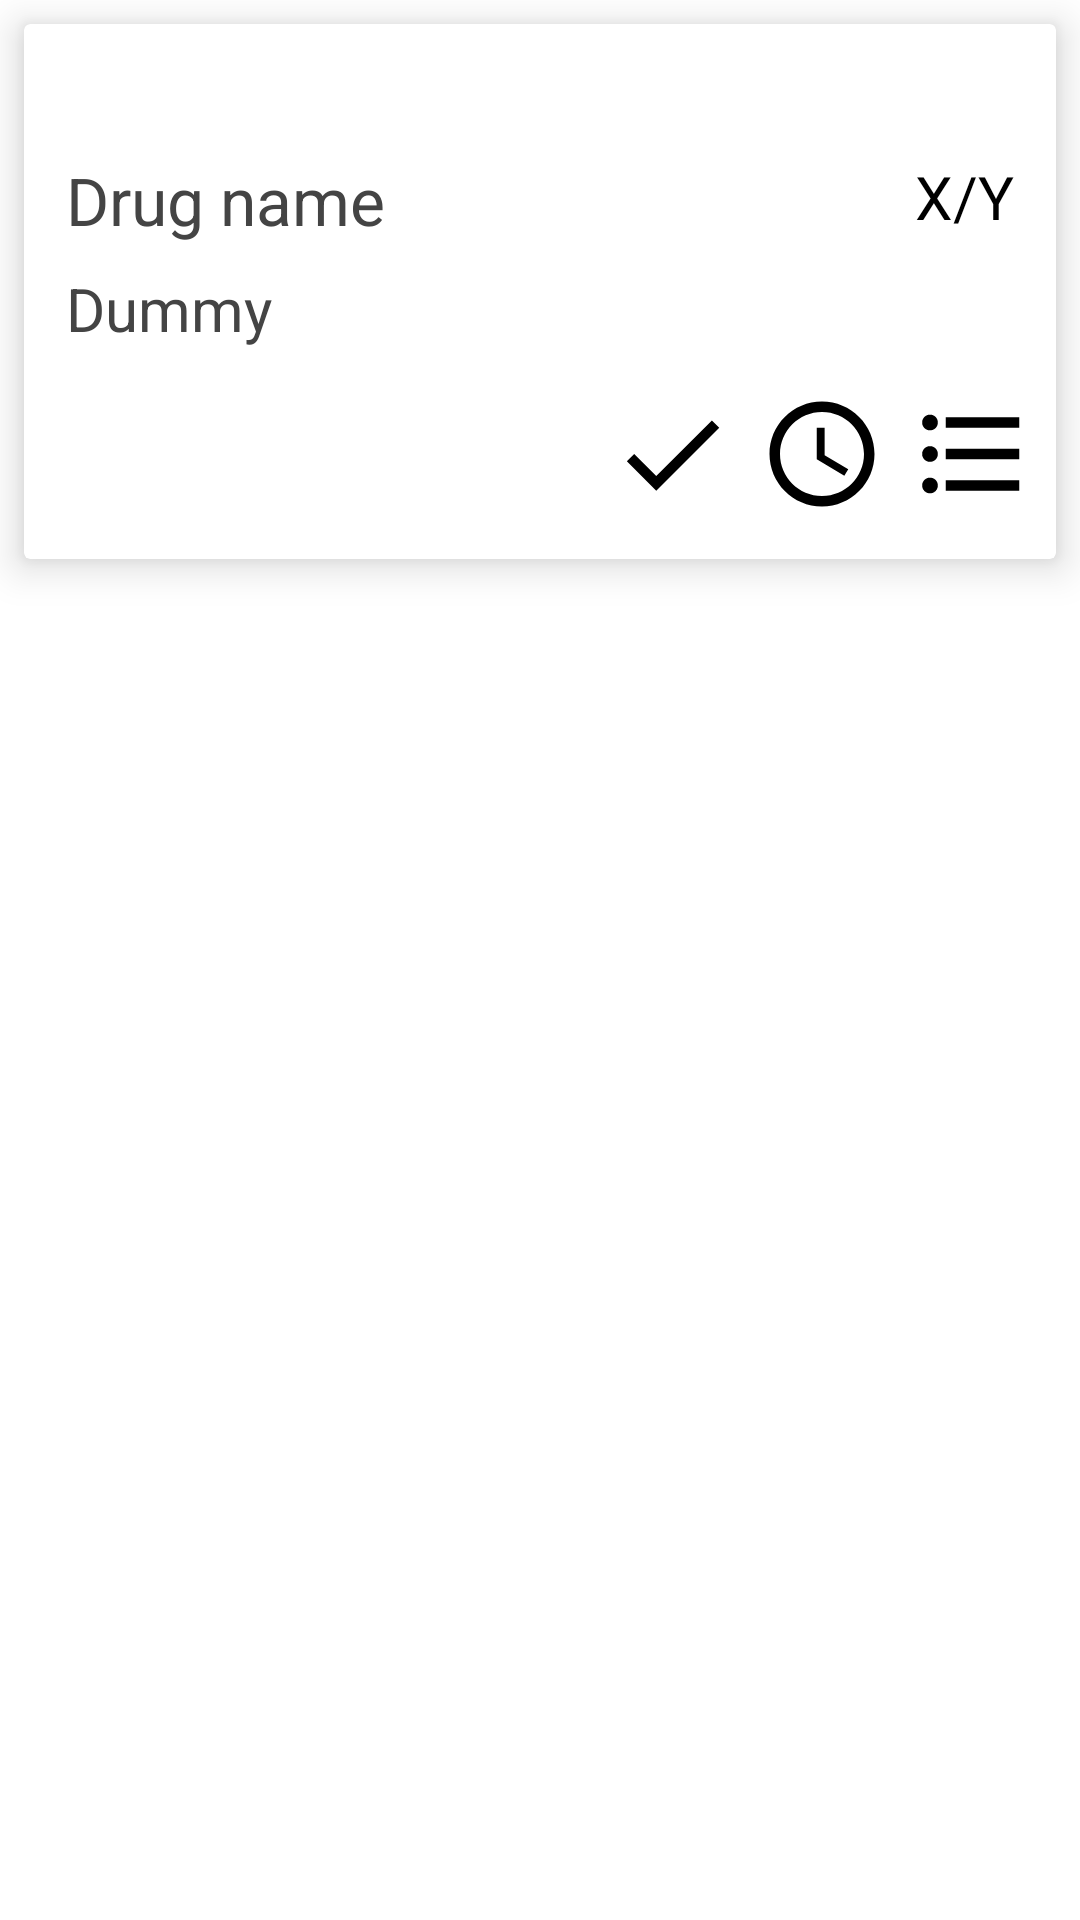

Named icons in this screenshot (1080×1920) and their bounding boxes, (x1, y1, x2, y2):
access time: (769, 401, 875, 507)
done: (627, 420, 719, 491)
format list bulleted: (922, 414, 1020, 494)
